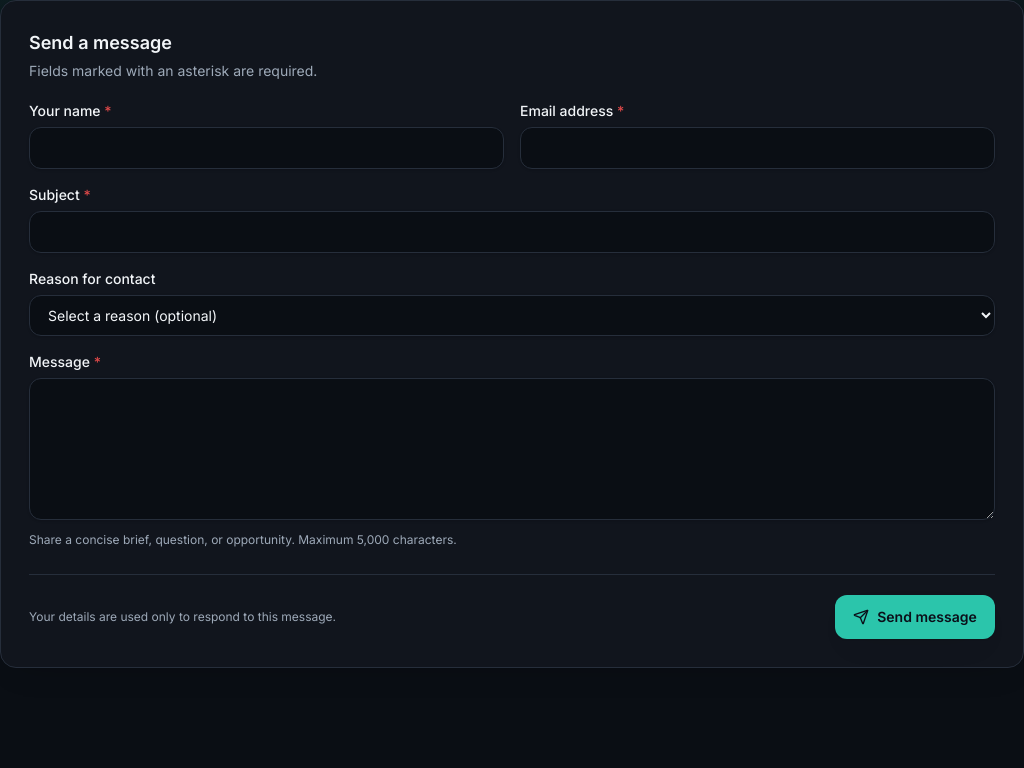
Test: ContactForm › maps server-side field errors onto the form
Type "Test Visitor" into the field labelled "Your name *" at (266, 148), box [29,127,504,169]
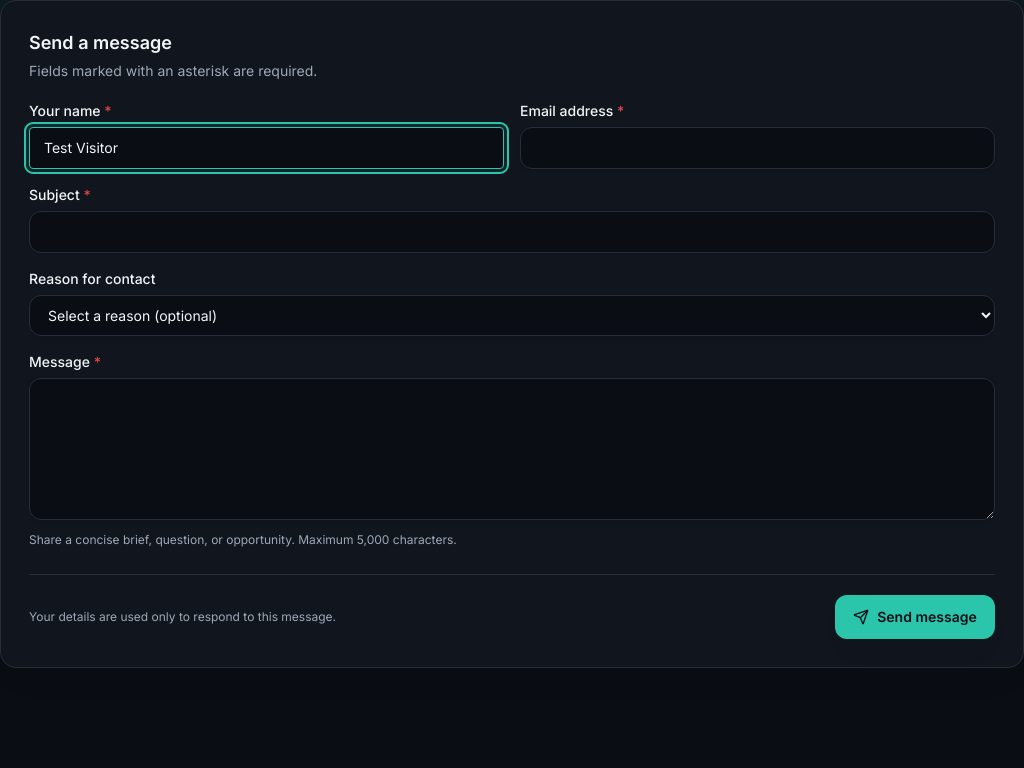
Type "visitor@example.com" into the field labelled "Email address *" at (758, 148), box [520,127,995,169]
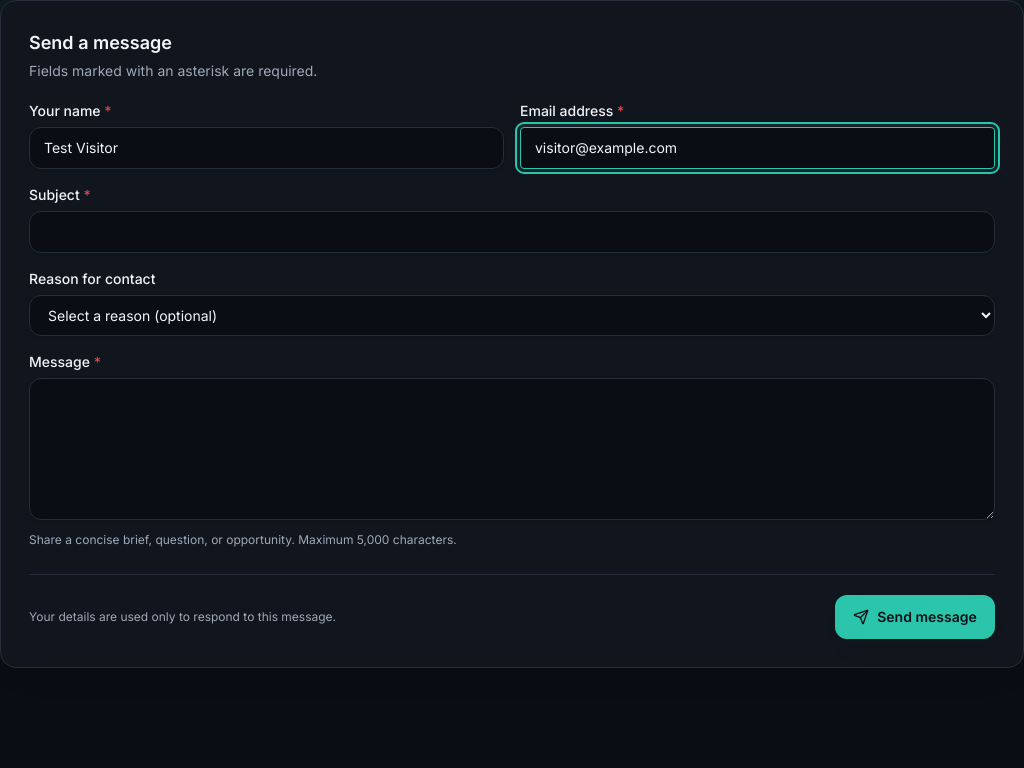
Type "A genuine enquiry" into the field labelled "Subject *" at (512, 232), box [29,211,995,253]
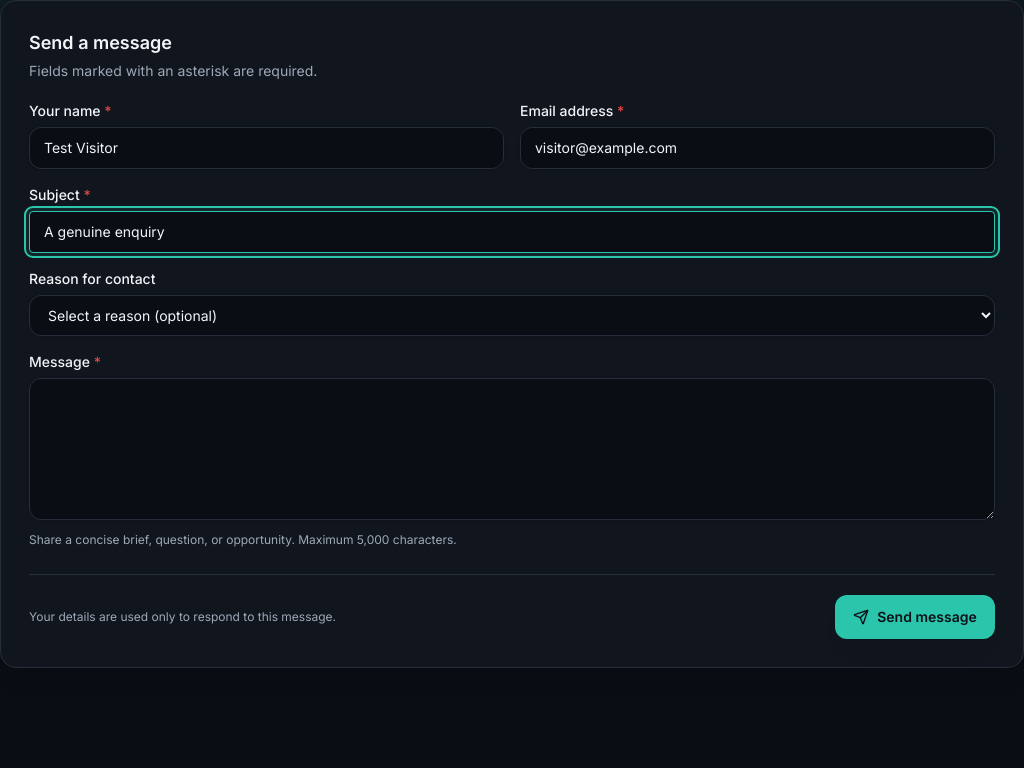
Type "Hello, I would like to discuss a software development opportunity with you." into the text box labelled "Message *" at (512, 449), box [29,378,995,520]
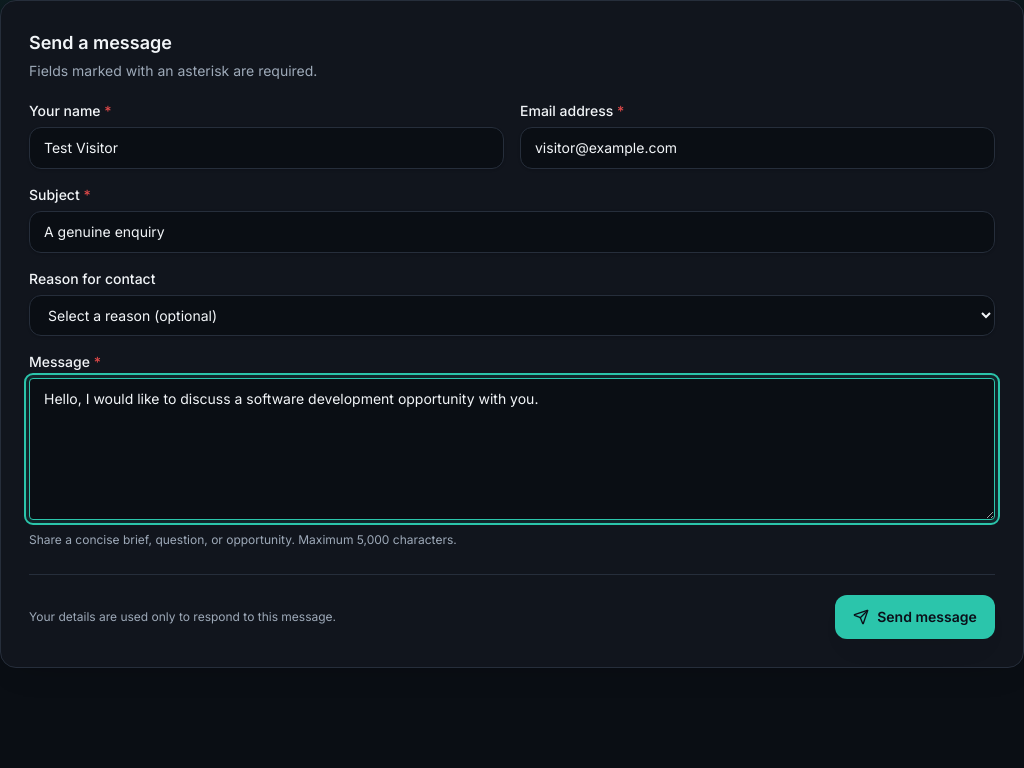
Click the button "Send message" at (915, 617), box [835,595,995,639]
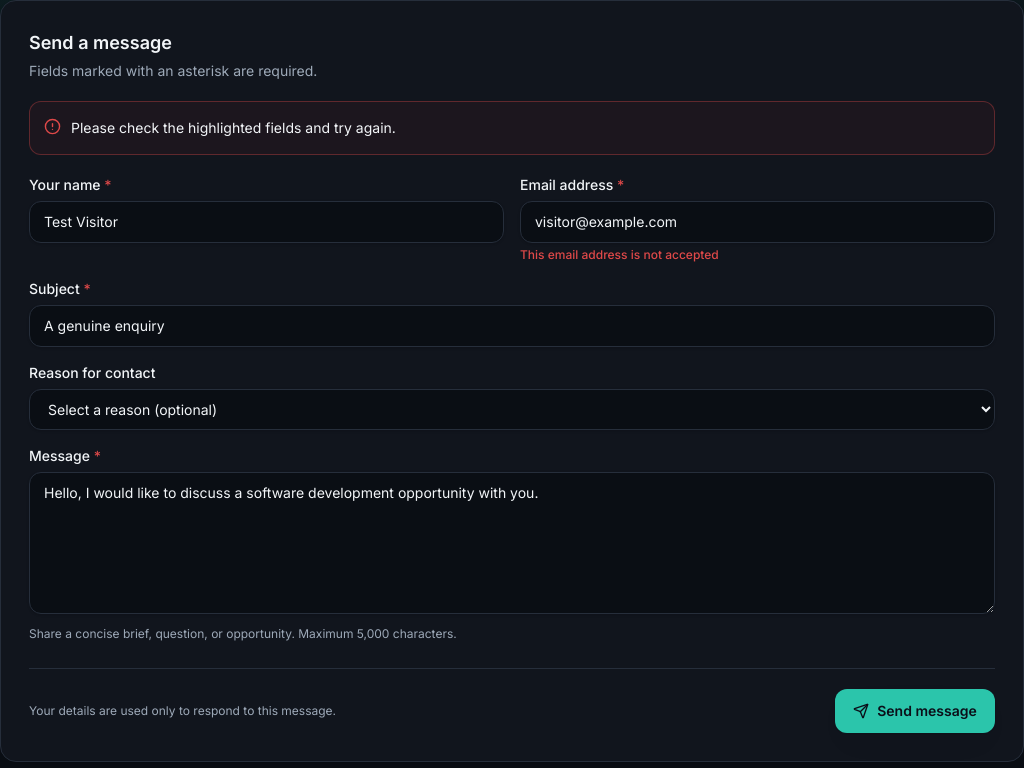
Check: the text "This email address is not accepted" is shown, box [520,247,719,262]
Check: the message shows "highlighted fields", box [71,119,396,136]
